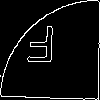F: (25, 25, 56, 72)
